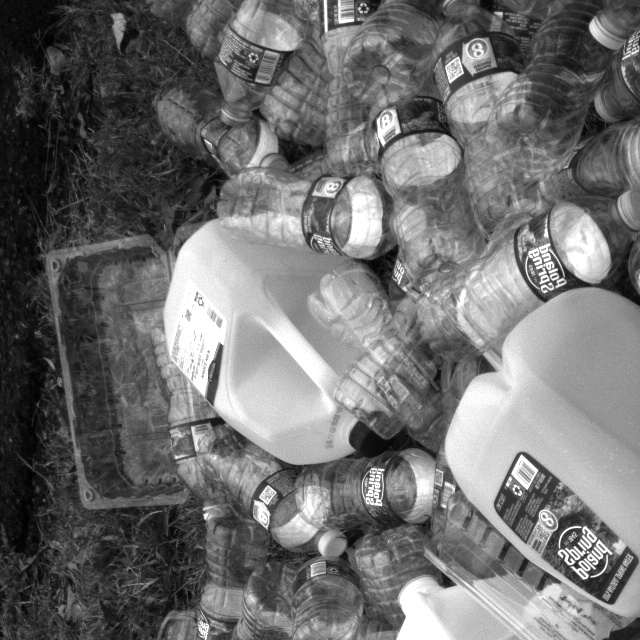bottle: (416, 181, 640, 354), (368, 49, 483, 281), (489, 0, 619, 174), (214, 158, 421, 263), (199, 425, 351, 563), (210, 0, 336, 121), (159, 82, 295, 191), (322, 0, 402, 174), (294, 446, 449, 532), (233, 547, 307, 640), (588, 0, 640, 51)
can: (439, 281, 640, 628), (159, 210, 404, 468), (384, 572, 640, 640)
container: (44, 231, 212, 510)
